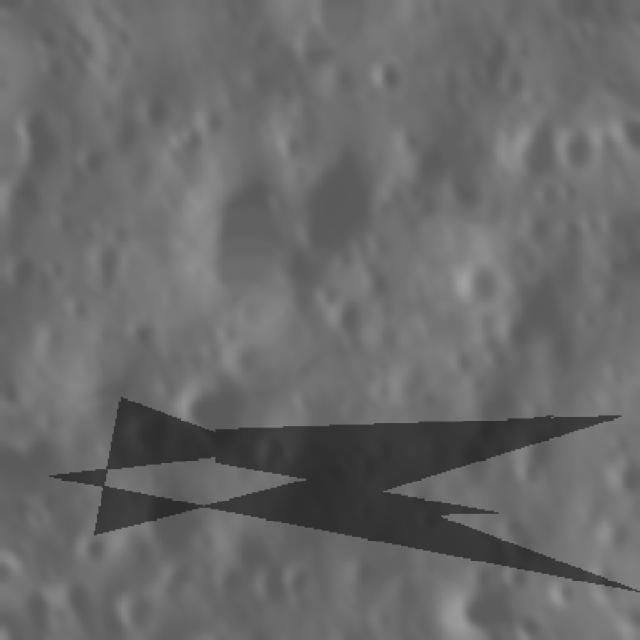crater: (151, 148, 307, 324), (262, 365, 388, 497), (270, 137, 390, 268), (162, 360, 268, 466), (480, 259, 578, 359), (122, 470, 216, 572), (58, 348, 148, 440), (0, 96, 69, 186), (386, 126, 454, 206), (499, 111, 568, 187), (0, 167, 60, 251), (115, 402, 183, 476), (48, 559, 108, 630), (237, 552, 297, 620), (282, 15, 340, 84), (330, 547, 388, 615), (300, 0, 372, 54), (106, 580, 169, 640), (544, 120, 610, 177), (503, 417, 565, 477), (444, 255, 504, 313), (156, 115, 210, 179), (269, 544, 326, 604), (169, 604, 263, 640), (65, 133, 118, 192), (498, 519, 558, 570), (320, 289, 371, 346), (223, 332, 274, 388), (0, 241, 46, 301), (198, 557, 250, 609), (125, 83, 173, 135), (595, 449, 640, 503), (586, 508, 634, 557), (245, 430, 292, 478), (69, 529, 116, 576), (462, 412, 508, 457), (122, 308, 167, 354), (494, 555, 544, 596), (482, 505, 532, 546), (505, 456, 553, 496), (228, 290, 272, 333), (266, 128, 311, 170), (359, 368, 403, 409), (32, 249, 74, 291), (344, 491, 385, 534), (57, 289, 98, 331), (266, 77, 306, 117), (478, 342, 518, 380), (441, 341, 479, 381), (605, 426, 638, 463), (408, 502, 442, 536), (0, 80, 8, 148)
